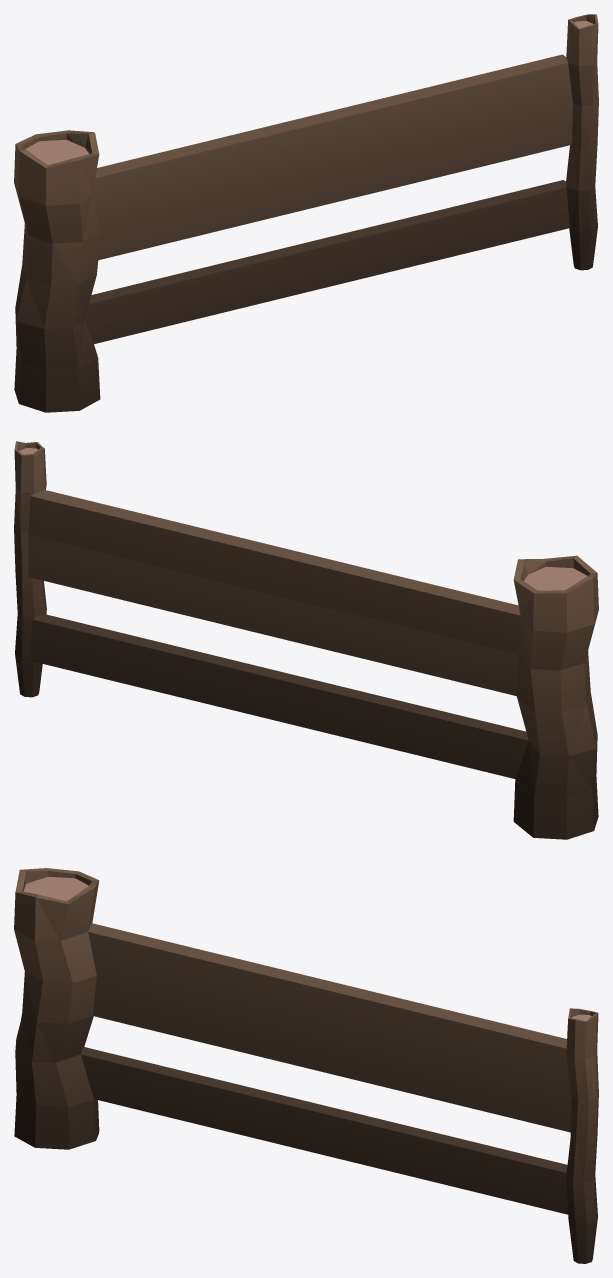
File: Zauntor.fbx
The picture shows the model from 3 angles, top to bottom: view 1: azimuth 30°, elevation 25°; view 2: azimuth 150°, elevation 25°; view 3: azimuth 330°, elevation 25°; orthographic projection.
Visible parts, largest first — view 1: Tor; view 2: Tor; view 3: Tor.
Part boxes in pixels (<box>): Tor: <box>14,14,598,412</box>; Tor: <box>14,441,598,839</box>; Tor: <box>14,868,598,1263</box>.
Size of the model in its own units: 224 by 93.39 by 30.04.
